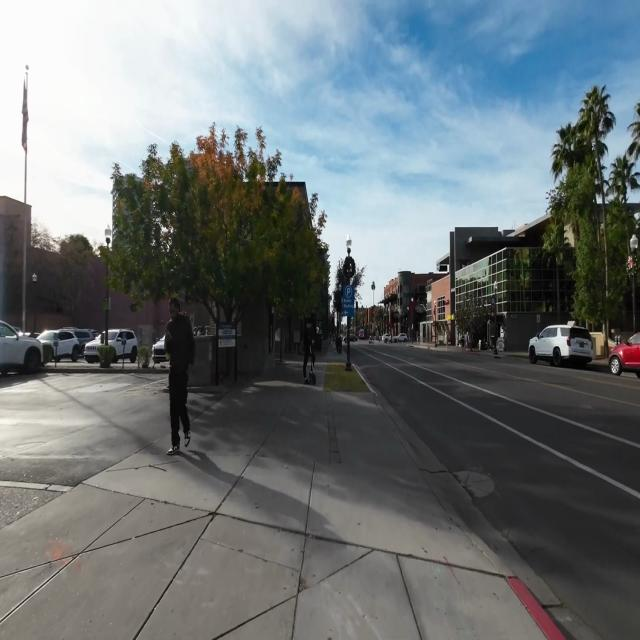road: (351, 345, 640, 639)
side walk: (0, 366, 596, 639)
street sign: (333, 258, 361, 334)
